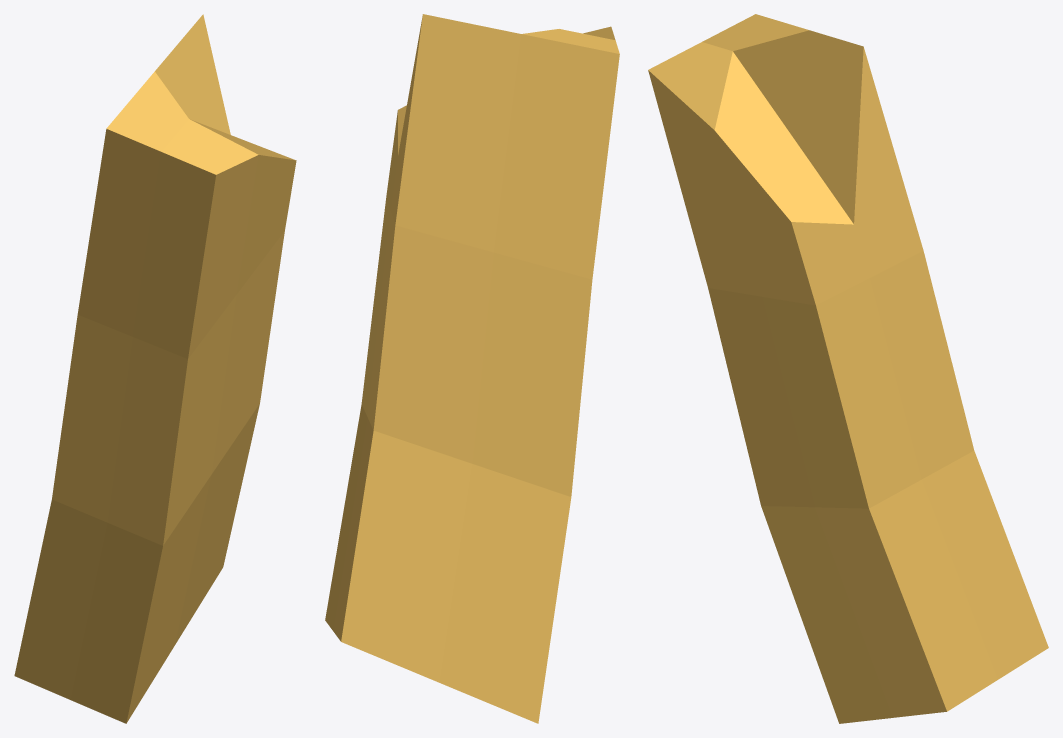
Rendered from Boat skeleton broken column4.fbx.
3 renders of one model, left to right at view 1: azimuth 30°, elevation 25°; view 2: azimuth 150°, elevation 25°; view 3: azimuth 270°, elevation 25°, orthographic. The views are drawn at different scales.
Parts seen in each view (by area): view 1: Broken columns.003; view 2: Broken columns.003; view 3: Broken columns.003.
Part boxes in pixels (<box>): Broken columns.003: <box>14,14,296,723</box>; Broken columns.003: <box>325,14,619,723</box>; Broken columns.003: <box>648,14,1048,723</box>.
Bounding box in the file's own units: 5.92 × 18.15 × 9.12.
